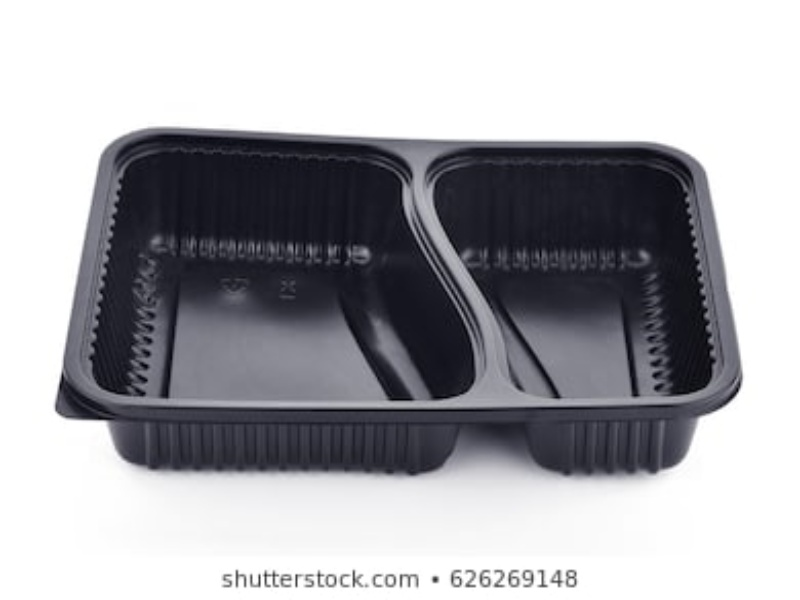plastic-container: (55, 122, 736, 476)
